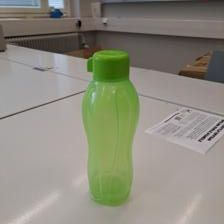bottle: (81, 48, 140, 207)
